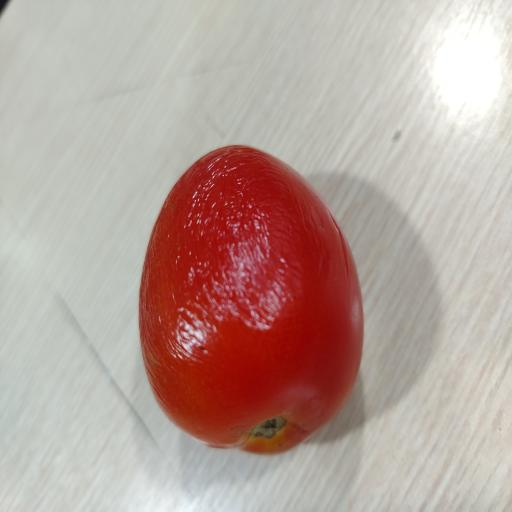spoiled: (140, 146, 363, 452)
